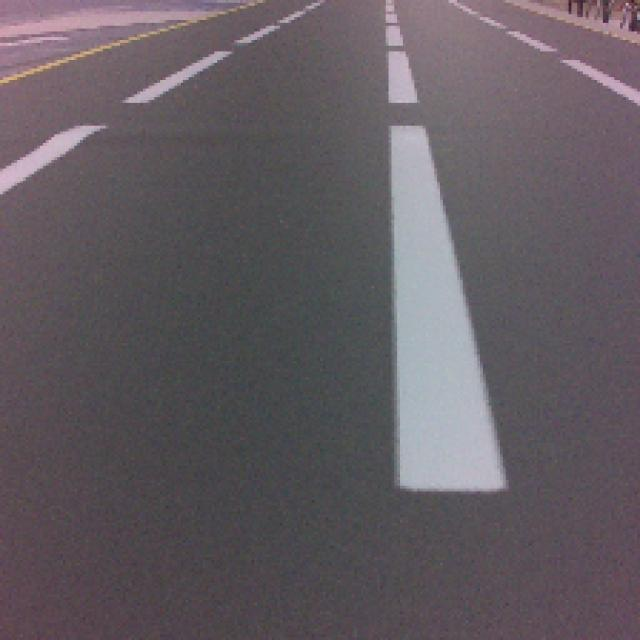Road: (0, 256, 403, 640)
